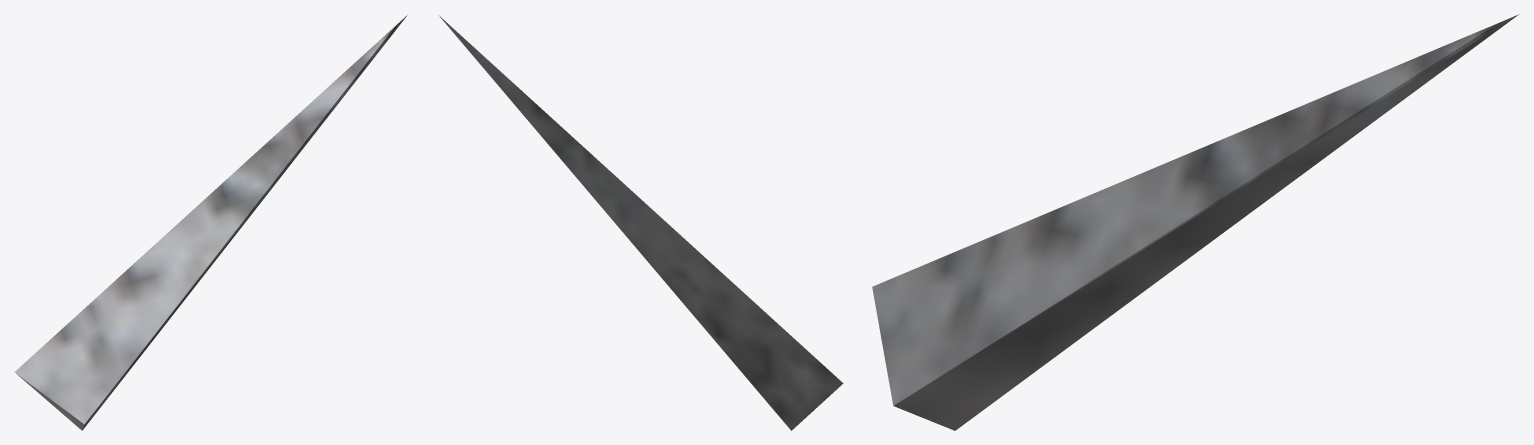
Rendered from Asteroid_Large_001_02_004_03_002.fbx.
3 renders of one model, left to right at view 1: azimuth 30°, elevation 25°; view 2: azimuth 150°, elevation 25°; view 3: azimuth 330°, elevation 25°, orthographic. The views are drawn at different scales.
Parts seen in each view (by area): view 1: Asteroid_Large_001_02_004_03_002; view 2: Asteroid_Large_001_02_004_03_002; view 3: Asteroid_Large_001_02_004_03_002.
Part boxes in pixels (x1,y1,x2,y2): Asteroid_Large_001_02_004_03_002: [14, 15, 407, 430]; Asteroid_Large_001_02_004_03_002: [438, 15, 843, 430]; Asteroid_Large_001_02_004_03_002: [872, 14, 1519, 430].
Bounding box in the file's own units: 1.92 × 1.53 × 0.2413.
